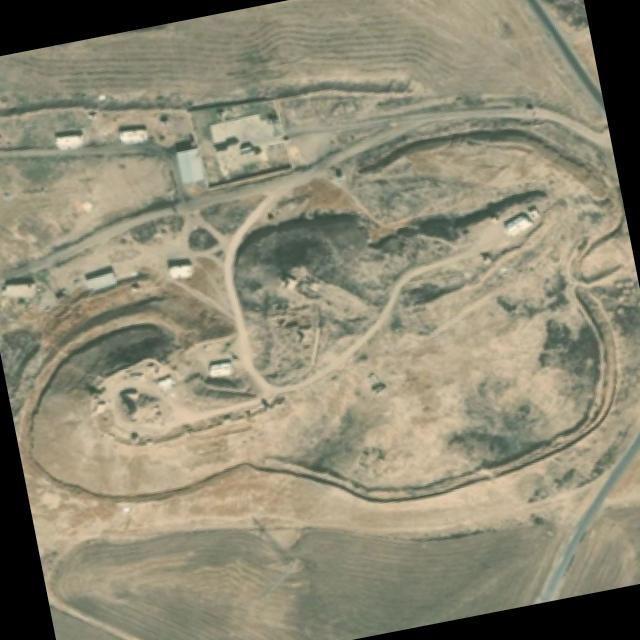ruins: (0, 277, 274, 511), (72, 535, 320, 640), (261, 166, 383, 252), (563, 220, 635, 300)
